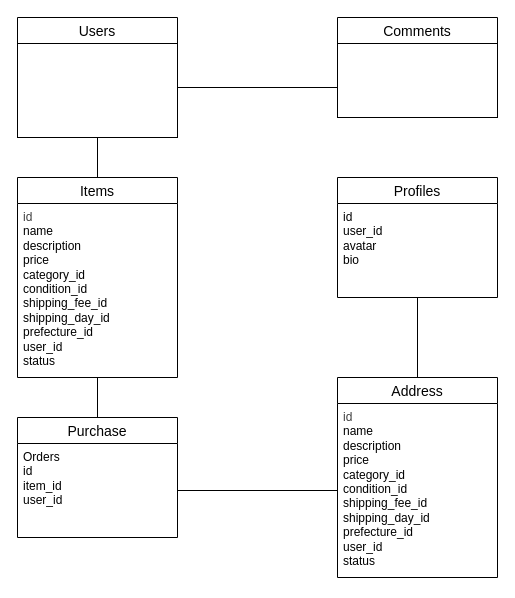
This 515x598 diagram has some shape labels left out. The centre of each missing label's shape, as x and y in pixels:
"id nickname email encrypted_password" belongs at point 97,90.
"id text user_id item_id" belongs at point 417,80.
